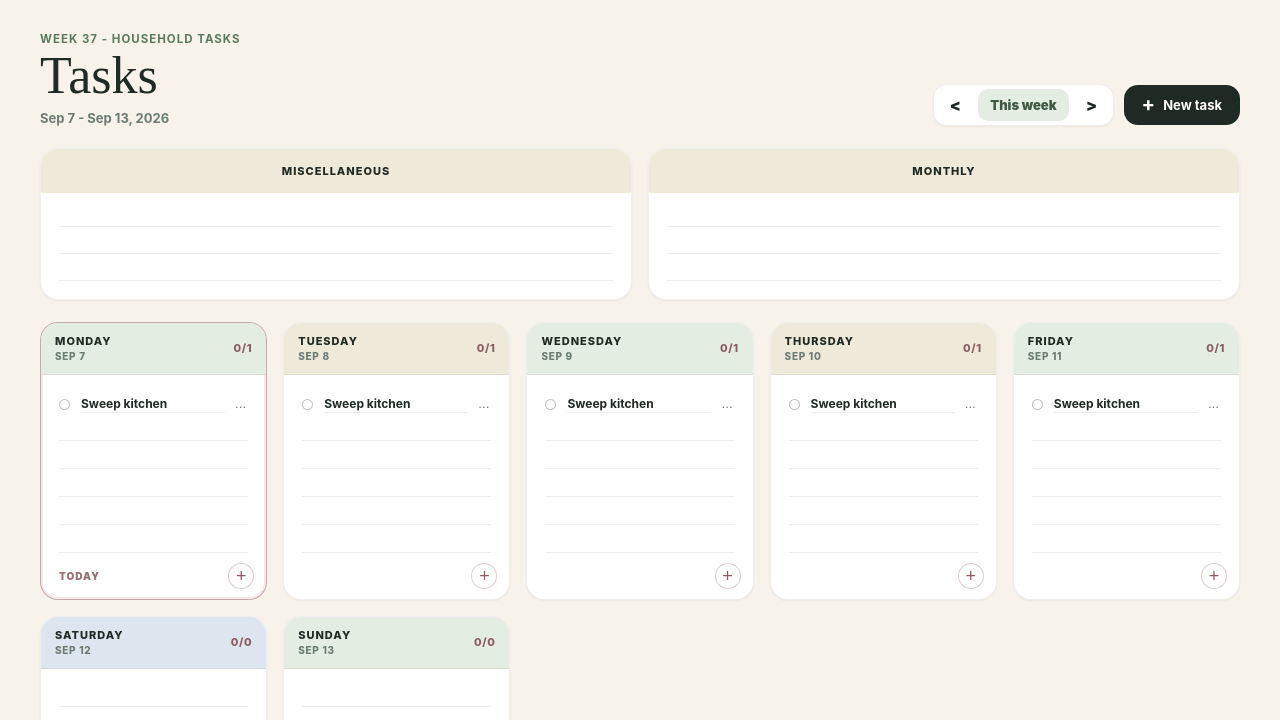
Test: TodoTasks › renders New Task modal with 'From recurring task' select when creating
// Click "New task" button
Step 1. Click the button "+ New task" → (1182, 105), box [1124, 85, 1240, 125]
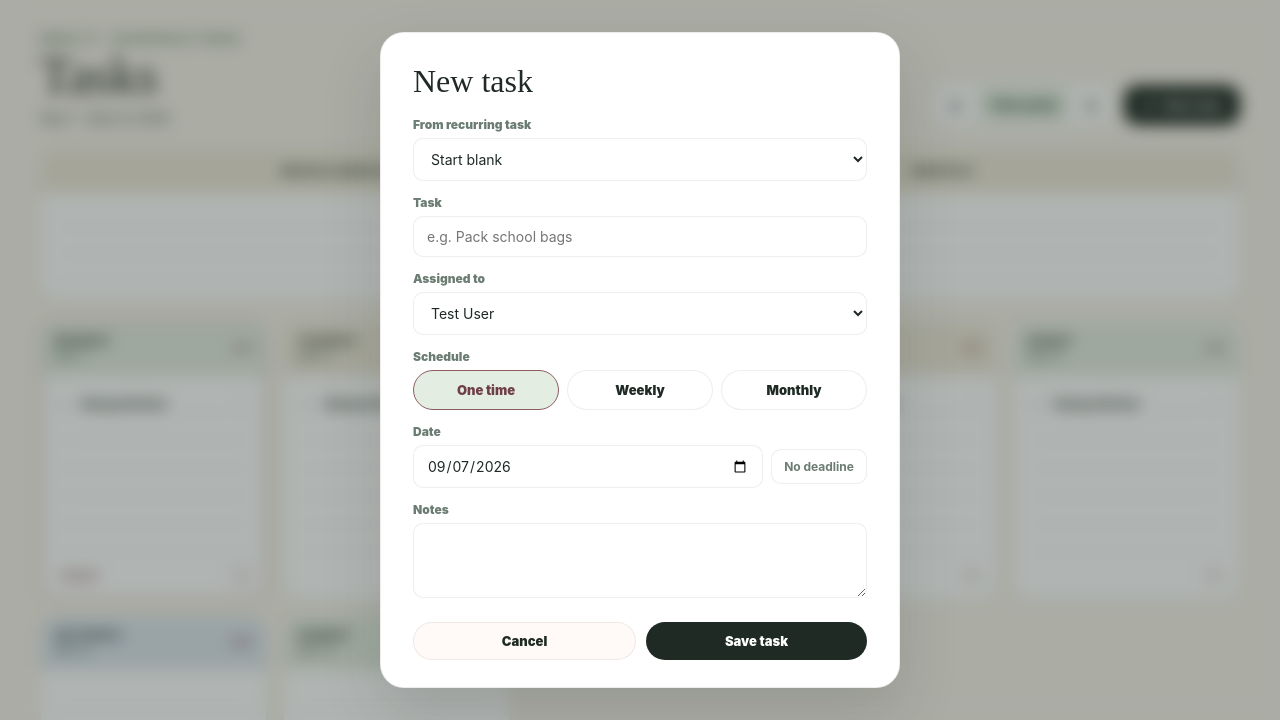
Check: the dropdown below "From recurring task" is shown, box [413, 138, 867, 181]
